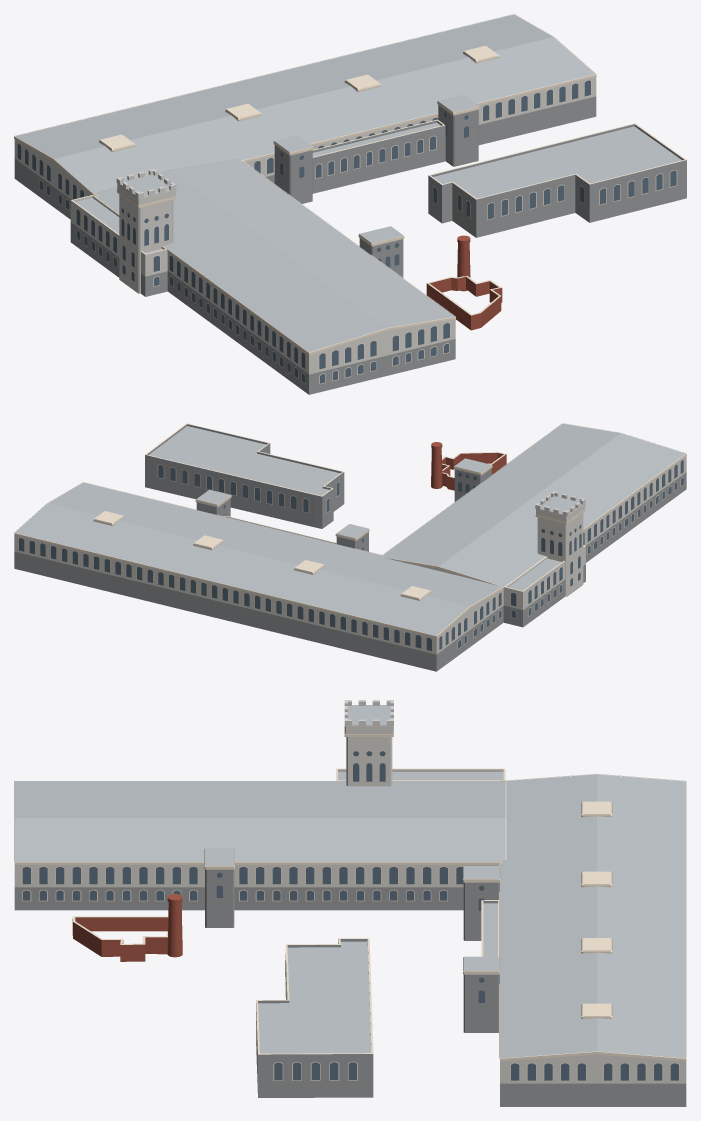
The model's file is clt-highland-park-mill-3.glb.
The picture shows the model from 3 angles, top to bottom: view 1: azimuth 30°, elevation 25°; view 2: azimuth 150°, elevation 25°; view 3: azimuth 270°, elevation 25°; orthographic projection. The views are drawn at different scales.
Visible parts, largest first — view 1: Highland Park Mill No. 3; view 2: Highland Park Mill No. 3; view 3: Highland Park Mill No. 3.
Part boxes in pixels (box(x1,y1,x2,y2)): Highland Park Mill No. 3: box(14, 14, 686, 394); Highland Park Mill No. 3: box(14, 423, 686, 671); Highland Park Mill No. 3: box(14, 700, 686, 1106).
Size of the model in its own units: 141 by 25.8 by 137.
